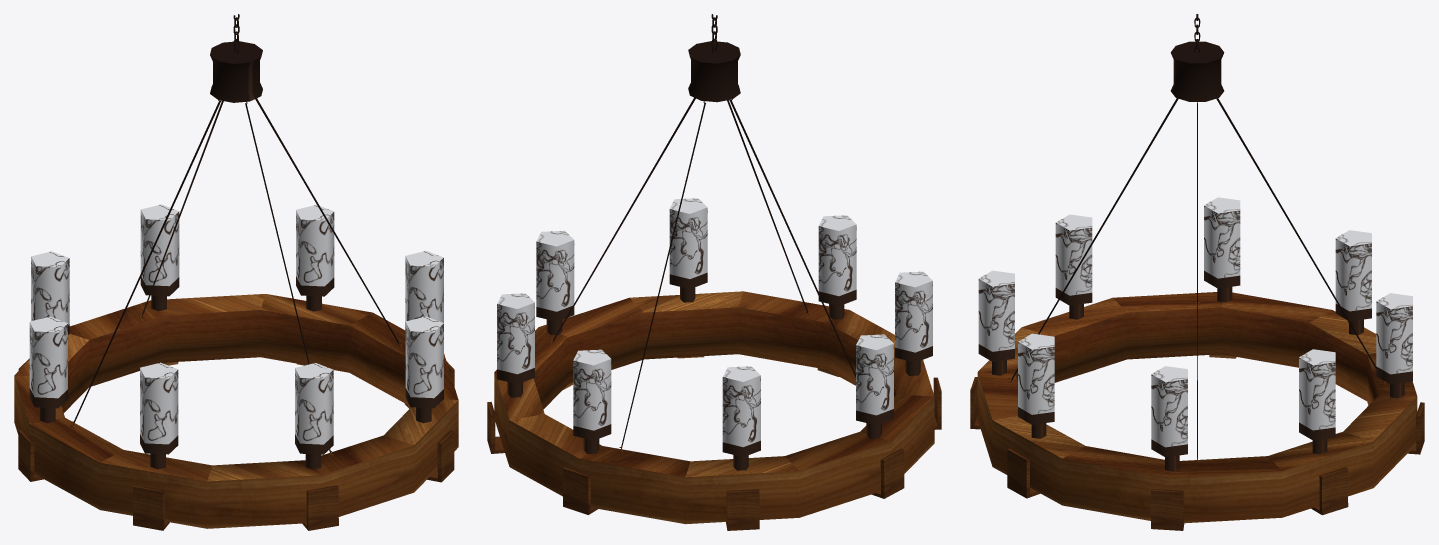
File: aws_Chandelier_01_visual.DAE
3 renders of one model, left to right at view 1: azimuth 30°, elevation 25°; view 2: azimuth 150°, elevation 25°; view 3: azimuth 270°, elevation 25°, orthographic.
Parts seen in each view (by area): view 1: aws_Chandelier_01_visual; view 2: aws_Chandelier_01_visual; view 3: aws_Chandelier_01_visual.
Part boxes in pixels (x1,y1,x2,y2): aws_Chandelier_01_visual: (14,14,458,530); aws_Chandelier_01_visual: (487,14,941,530); aws_Chandelier_01_visual: (970,14,1424,530).
Size of the model in its own units: 89.55 by 89.55 by 91.39.
Materials: 1 (1 with a texture image).
